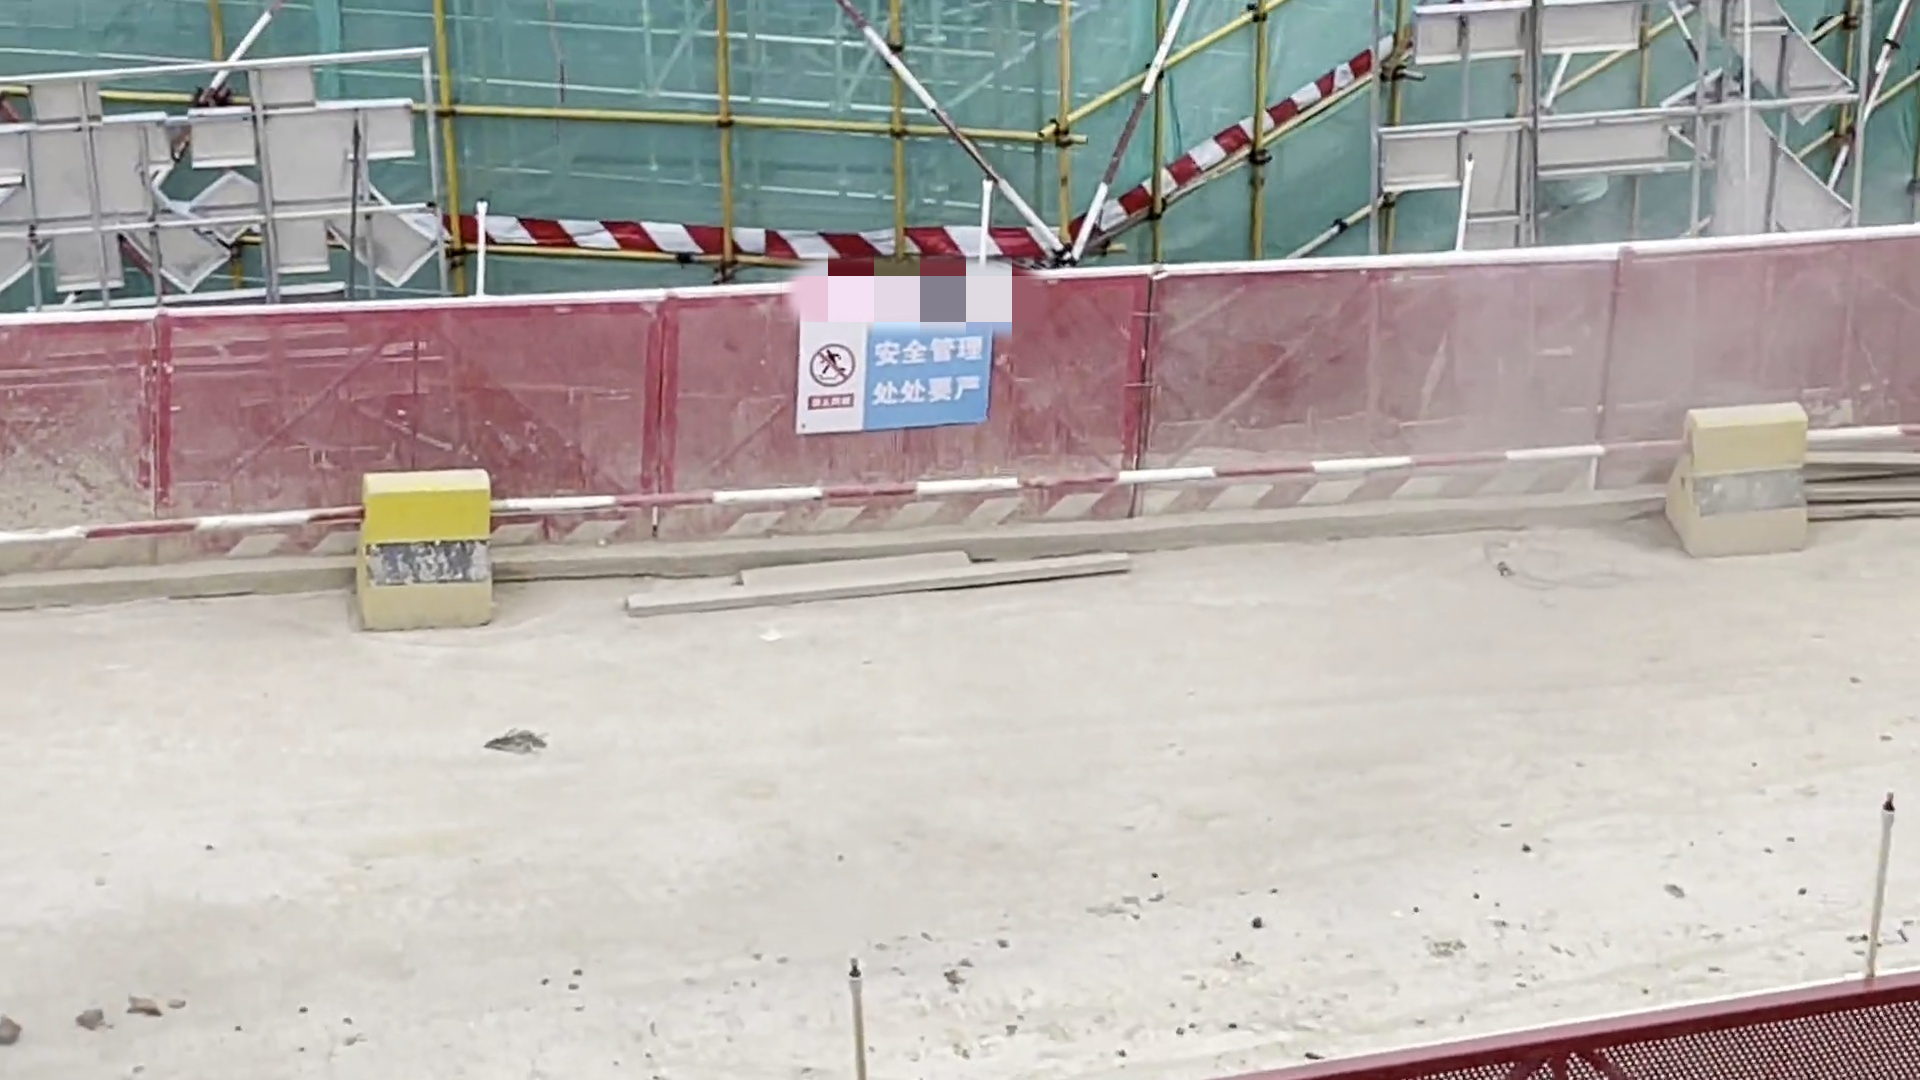fence: (1, 247, 1833, 506)
slogan: (800, 302, 1033, 454)
